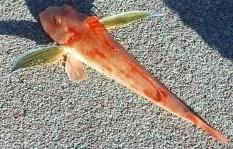fish: (7, 5, 229, 144)
